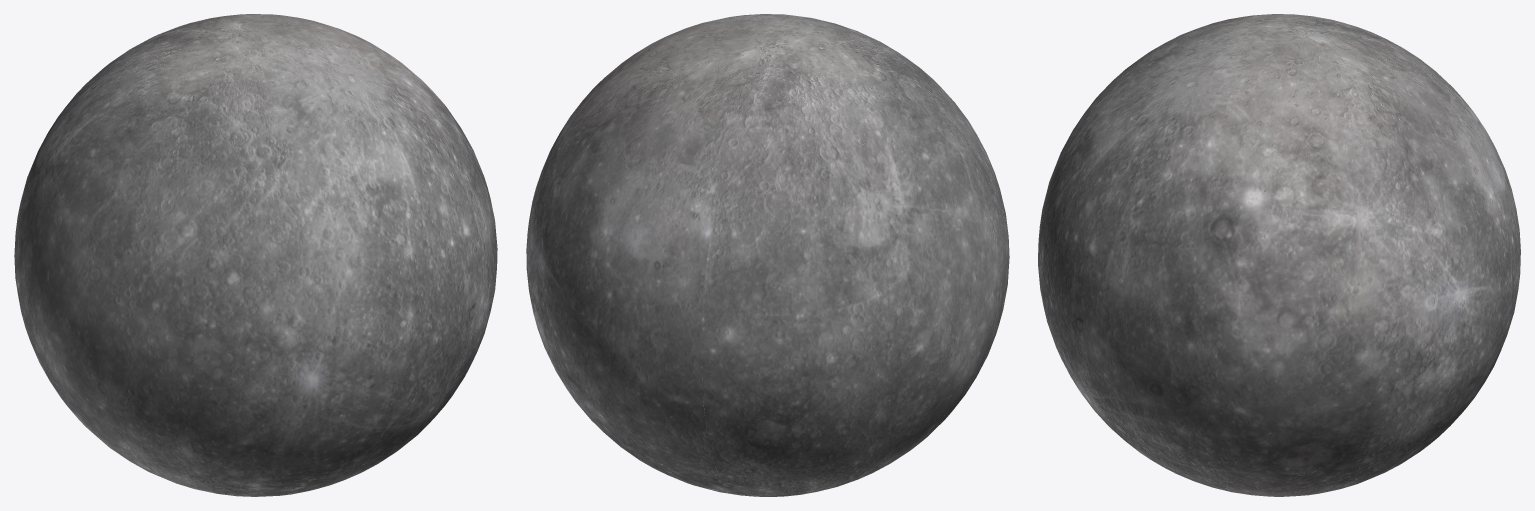
The model's file is mercury.glb.
3 renders of one model, left to right at view 1: azimuth 30°, elevation 25°; view 2: azimuth 150°, elevation 25°; view 3: azimuth 270°, elevation 25°, orthographic.
Parts seen in each view (by area): view 1: Mercury; view 2: Mercury; view 3: Mercury.
Part boxes in pixels (bbox=[...]): Mercury: bbox=[14, 14, 497, 496]; Mercury: bbox=[526, 14, 1009, 496]; Mercury: bbox=[1038, 14, 1520, 496].
Bounding box in the file's own units: 2.8 × 2.8 × 2.8.
1 material, 1 textured.
